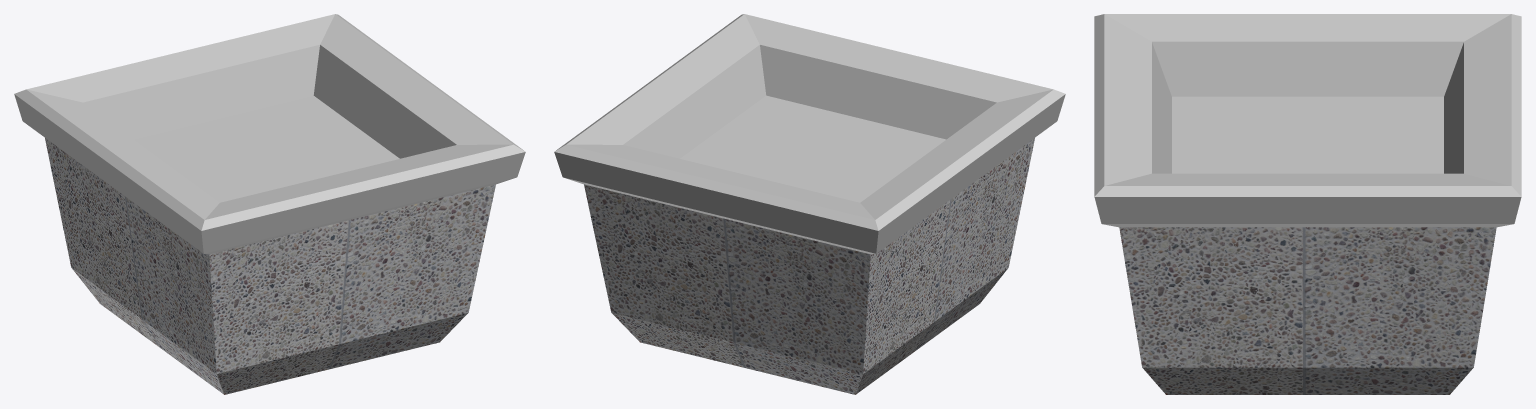
File: prp_potSquareA.fbx
The picture shows the model from 3 angles, left to right: view 1: azimuth 30°, elevation 25°; view 2: azimuth 150°, elevation 25°; view 3: azimuth 270°, elevation 25°; orthographic projection. The views are drawn at different scales.
Visible parts, largest first — view 1: prp_potSquareA; view 2: prp_potSquareA; view 3: prp_potSquareA.
Boxes of the visible parts, x1,y1,x2,y2 form: prp_potSquareA: (14, 14, 525, 394); prp_potSquareA: (554, 14, 1065, 394); prp_potSquareA: (1094, 14, 1521, 394).
Size of the model in its own units: 163 by 98.69 by 163.
